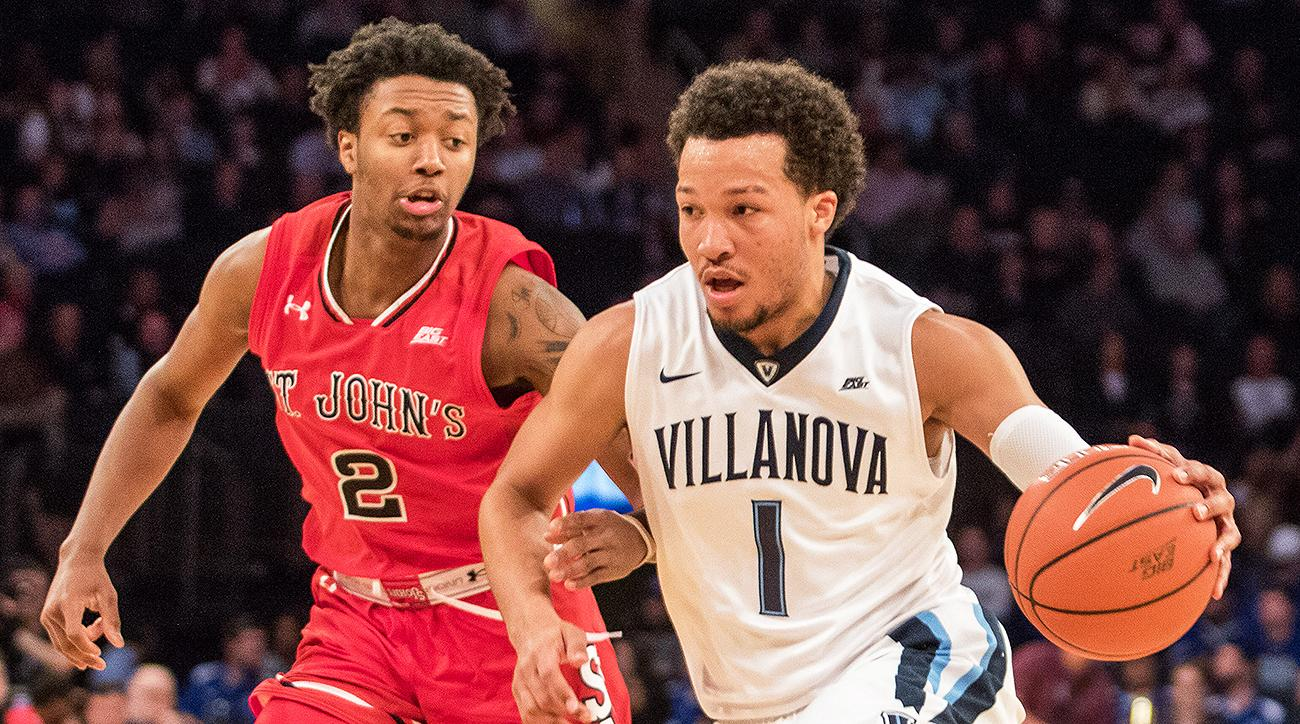ball: (996, 420, 1236, 686)
breakthrough: (524, 35, 1241, 724)
defense: (84, 9, 640, 724)
